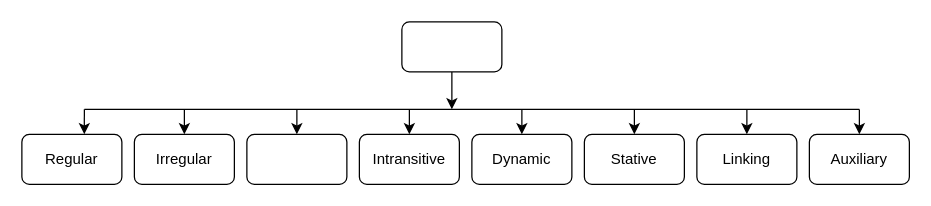
Image size: 931x206. Some labels were removed from this diagram. Each missing label, with the box of its shape:
Transitive: (246, 133, 347, 184)
Verb: (401, 21, 502, 72)
